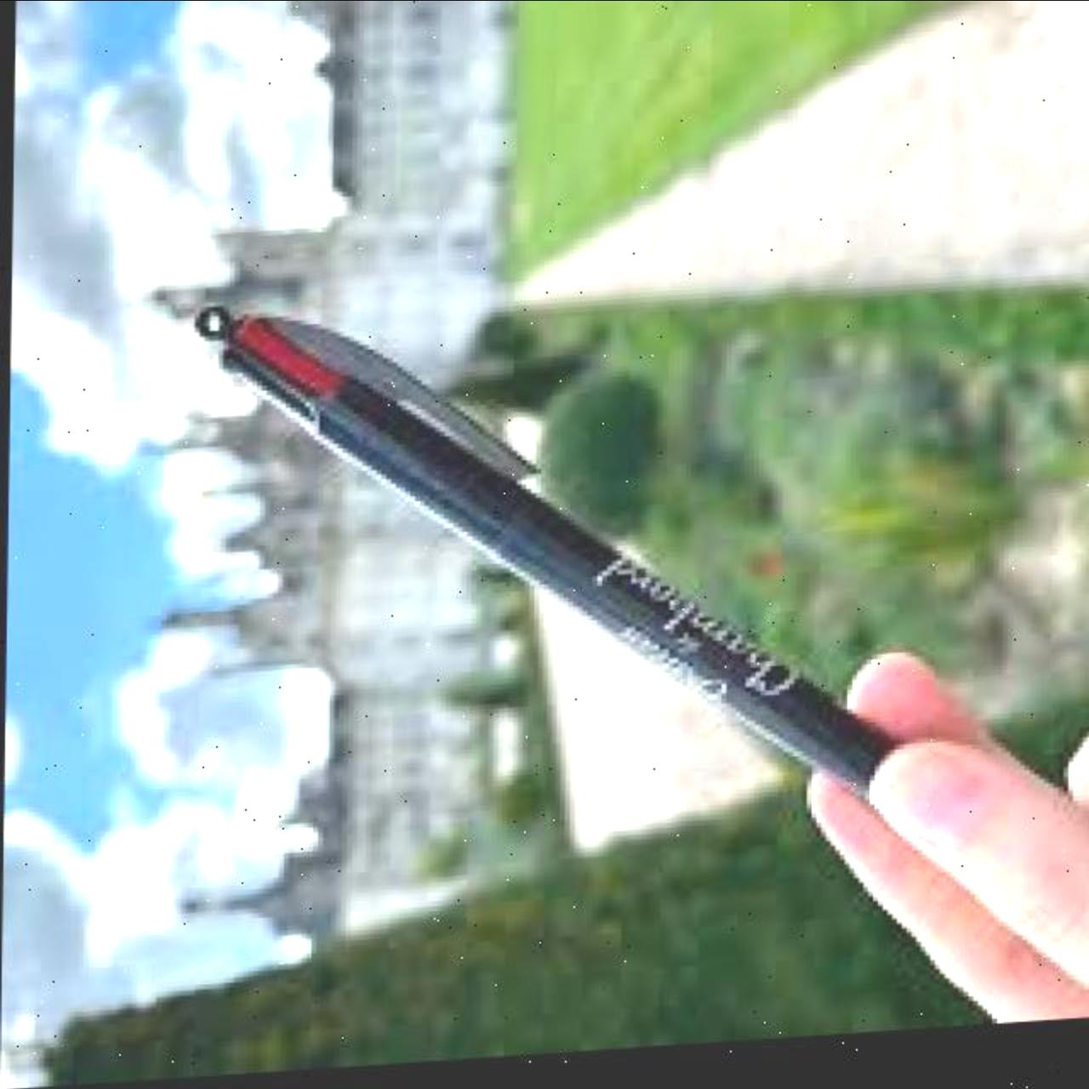pen: (177, 267, 909, 856)
